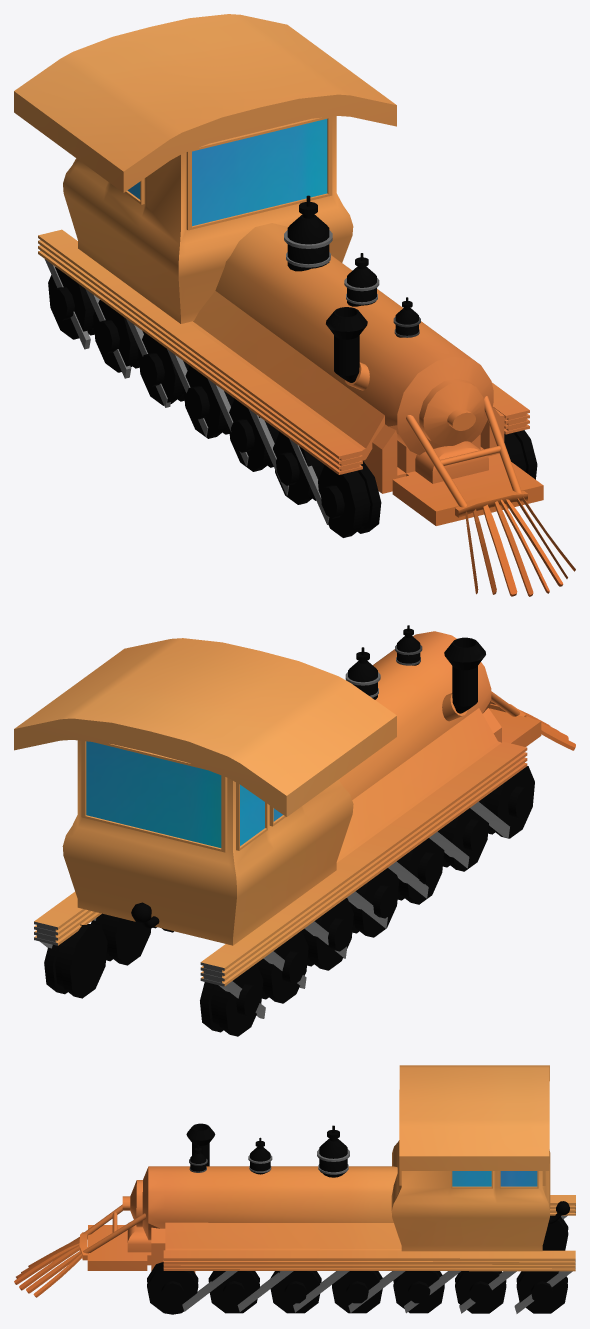
The model's file is Train_2.fbx.
The picture shows the model from 3 angles, top to bottom: view 1: azimuth 30°, elevation 25°; view 2: azimuth 150°, elevation 25°; view 3: azimuth 270°, elevation 25°; orthographic projection. The views are drawn at different scales.
Visible parts, largest first — view 1: Train_2; view 2: Train_2; view 3: Train_2.
Boxes of the visible parts, box(x1,y1,x2,y2) form: Train_2: box(14, 14, 575, 596); Train_2: box(14, 625, 575, 1036); Train_2: box(14, 1065, 575, 1314).
Bounding box in the file's own units: 395 × 393 × 1030.
1 material, 1 textured.
